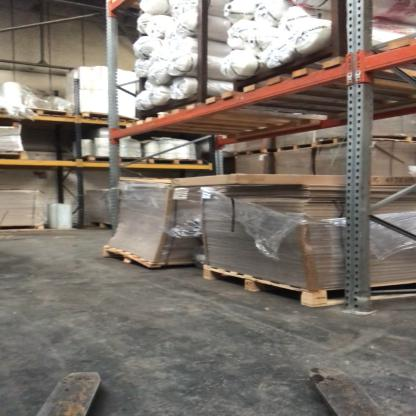vertical_damage: (346, 283, 383, 314)
